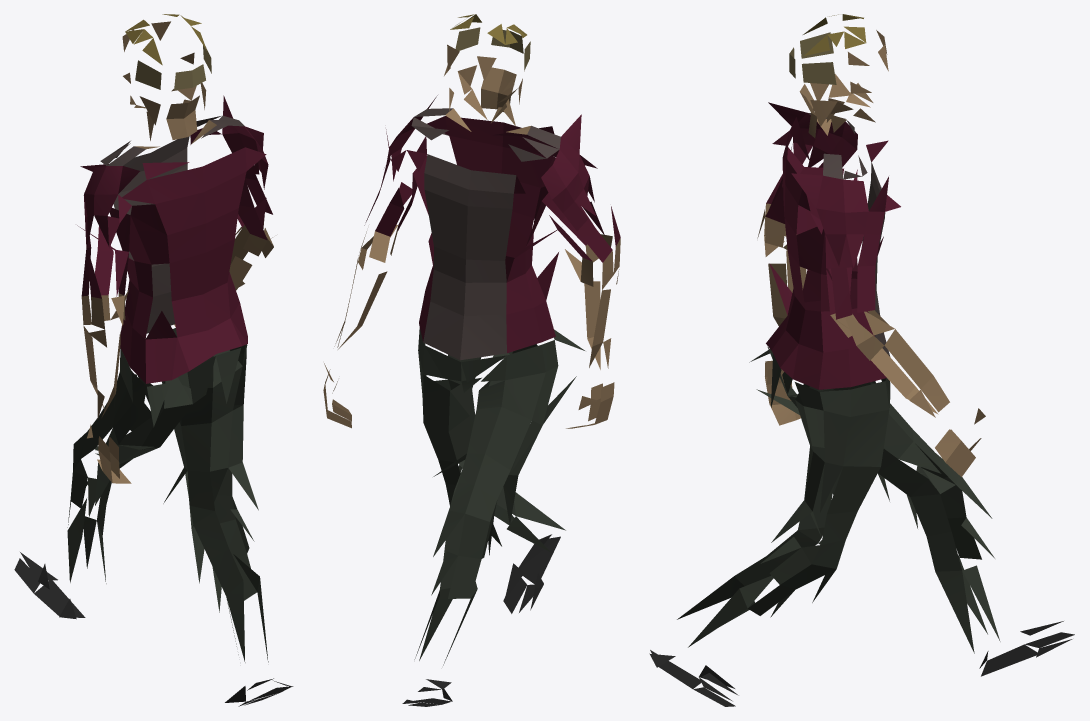
The model's file is personfar_2_w1.fbx.
3 views of the same model, side by side, from view 1: azimuth 30°, elevation 25°; view 2: azimuth 150°, elevation 25°; view 3: azimuth 270°, elevation 25° (orthographic). The views are drawn at different scales.
Parts seen in each view (by area): view 1: BaseHuman; view 2: BaseHuman; view 3: BaseHuman.
Part boxes in pixels (x1,y1,x2,y2): BaseHuman: (14, 14, 293, 706); BaseHuman: (323, 14, 620, 706); BaseHuman: (649, 14, 1074, 706).
Bounding box in the file's own units: 0.3499 × 0.9788 × 0.5617.
